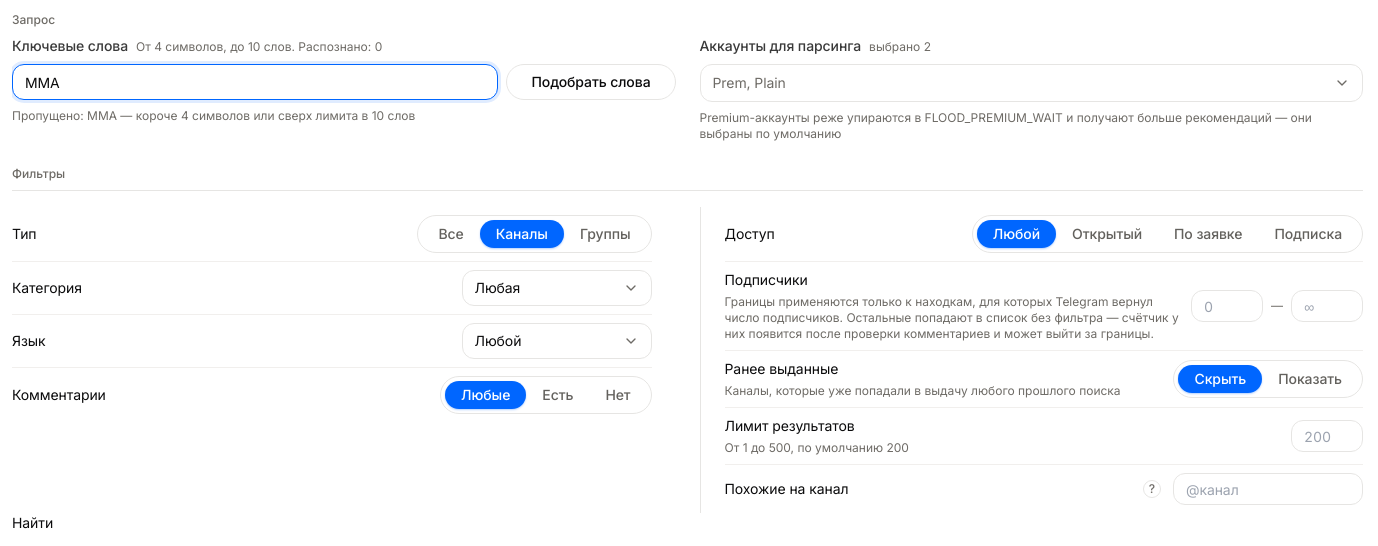
Test: DiscoveryForm keyword suggester › sends the typed field as the topic and appends what came back
Step 1. Click the button "Подобрать слова" → (591, 82), box [506,64,676,100]
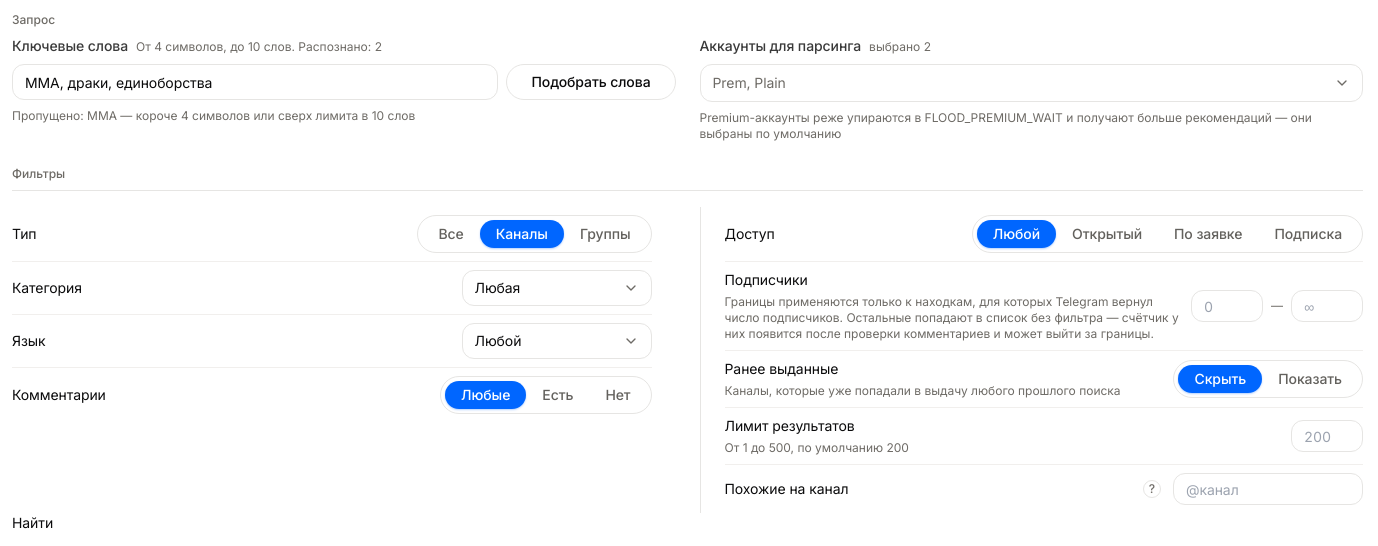
Expected: the field with placeholder "крипта, трейдинг, новости" holds "ММА, драки, единоборства", [12,64,498,100]
